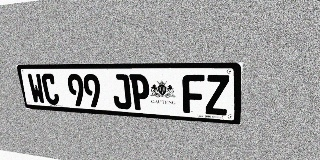9: (82, 74, 103, 108), (66, 74, 87, 107)
C: (40, 74, 60, 105)
F: (182, 75, 205, 114)
J: (111, 74, 132, 110)
P: (129, 74, 151, 111)
W: (27, 73, 46, 104)
Z: (205, 75, 229, 116)
